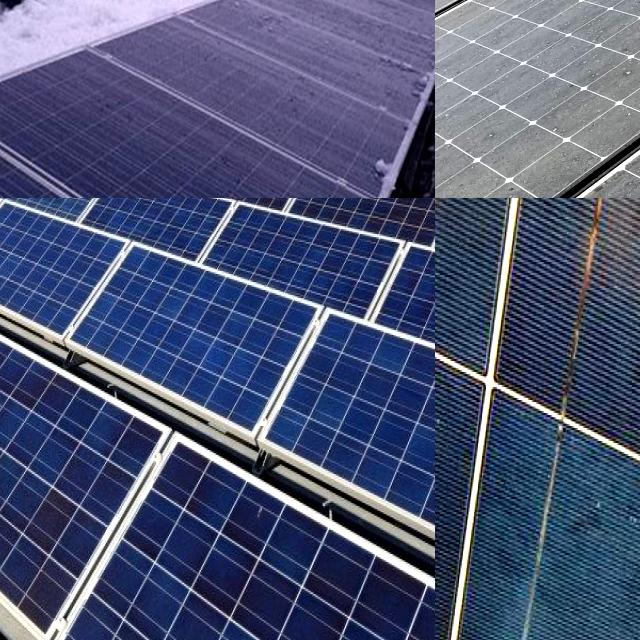crack: (232, 208, 386, 322), (0, 198, 124, 330), (213, 548, 318, 640), (286, 528, 382, 622), (0, 523, 75, 630), (254, 505, 335, 596), (260, 560, 349, 640), (53, 423, 111, 526), (218, 478, 289, 562), (349, 561, 424, 640), (172, 446, 237, 536), (324, 382, 392, 458), (360, 398, 426, 476), (156, 579, 237, 640), (0, 198, 108, 239), (182, 198, 302, 233), (127, 481, 177, 561), (22, 486, 79, 556), (296, 402, 342, 488), (352, 429, 404, 505), (306, 603, 405, 640), (140, 326, 200, 385), (6, 400, 56, 470), (192, 326, 244, 392), (311, 371, 356, 440), (324, 425, 372, 489), (0, 487, 31, 586), (101, 198, 194, 224), (0, 435, 29, 511), (268, 404, 308, 458), (116, 278, 166, 321), (176, 329, 220, 376), (302, 343, 342, 392), (220, 346, 261, 391), (130, 246, 170, 285), (0, 359, 20, 419), (300, 198, 319, 207), (308, 198, 325, 208)
dust: (527, 0, 640, 130), (435, 133, 531, 198), (435, 0, 547, 53), (435, 0, 608, 28)
panel: (0, 21, 112, 110), (0, 0, 119, 52), (140, 0, 282, 39), (132, 0, 315, 29), (13, 0, 128, 31), (285, 0, 406, 28), (0, 0, 49, 63), (0, 0, 63, 35)
shadow: (557, 198, 640, 447)
